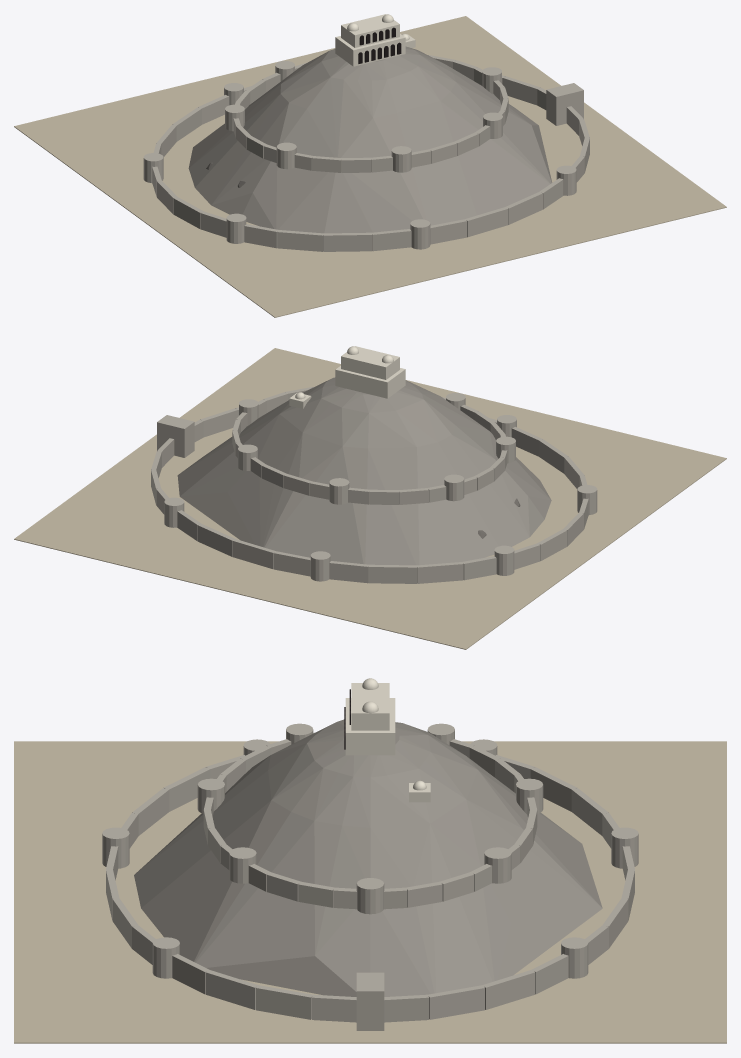
Rendered from golconda-fort.glb.
The picture shows the model from 3 angles, top to bottom: view 1: azimuth 30°, elevation 25°; view 2: azimuth 150°, elevation 25°; view 3: azimuth 270°, elevation 25°; orthographic projection. The views are drawn at different scales.
Visible parts, largest first — view 1: ground, granite, granite_l, stucco, void; view 2: ground, granite, granite_l, stucco; view 3: ground, granite, granite_l, stucco.
Boxes of the visible parts, bbox=[...] form: ground: bbox=[14, 16, 726, 317]; granite: bbox=[188, 46, 552, 233]; granite_l: bbox=[143, 55, 589, 251]; stucco: bbox=[335, 14, 415, 66]; void: bbox=[358, 27, 401, 63]; ground: bbox=[14, 348, 726, 649]; granite: bbox=[177, 377, 551, 565]; granite_l: bbox=[151, 377, 597, 583]; stucco: bbox=[289, 346, 405, 408]; ground: bbox=[14, 741, 726, 1043]; granite: bbox=[134, 719, 602, 996]; granite_l: bbox=[102, 723, 638, 1030]; stucco: bbox=[345, 678, 430, 802].
Bounding box in the file's own units: 260 × 82.89 × 260.
